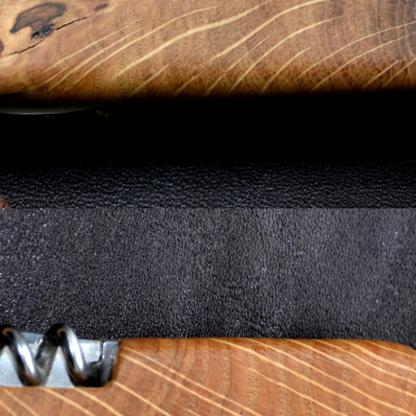knife: (0, 0, 415, 218), (0, 317, 415, 415)
